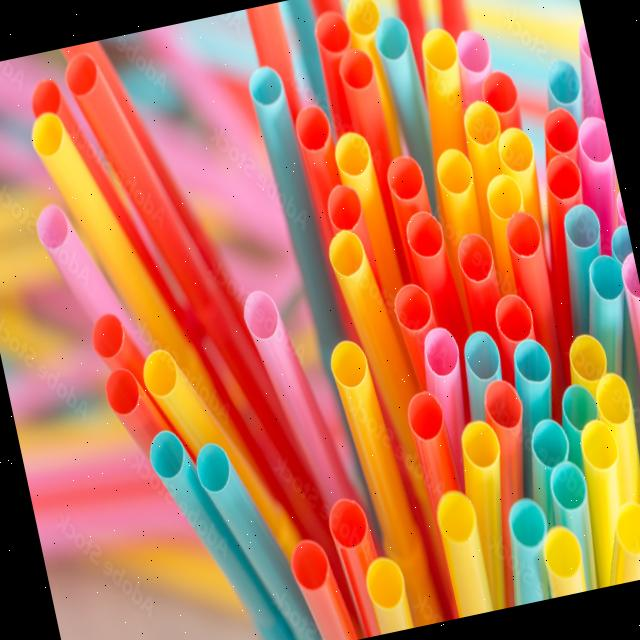plastic: (223, 272, 356, 504)
